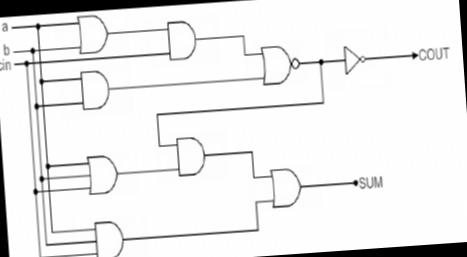and: (167, 130, 208, 184), (75, 64, 114, 117), (161, 13, 200, 64), (87, 212, 125, 257)
nor: (254, 37, 302, 92)
not: (338, 40, 369, 80)
or: (267, 160, 304, 220), (79, 149, 120, 197), (72, 10, 112, 55)
